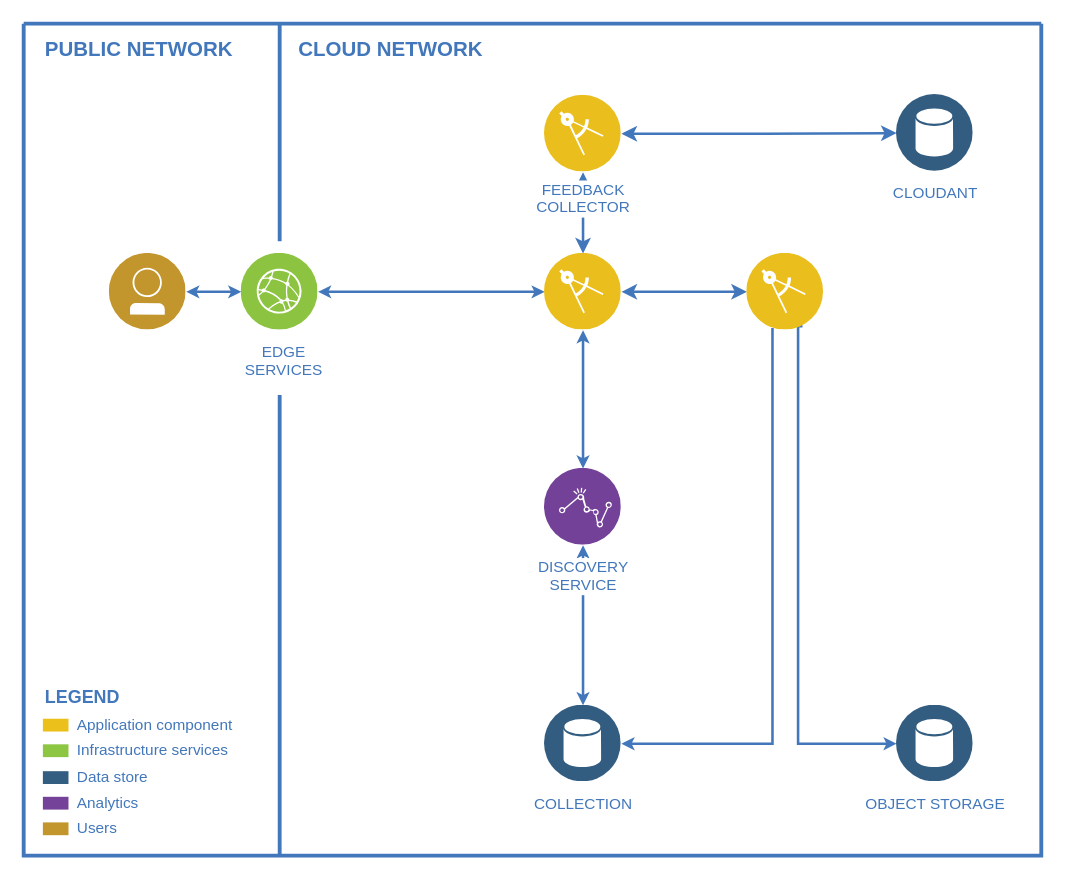
The diagram is 1065 pixels wide and 879 high, and some of its shapes have lost their labels. Here are the shapes that lost their labels. From the top down, the centre of each, then its label:
At pixel 147 291: "USER".
At pixel 582 291: "DISCOVERY APPLICATIONS".
At pixel 784 291: "INGESTION APPLICATION".
